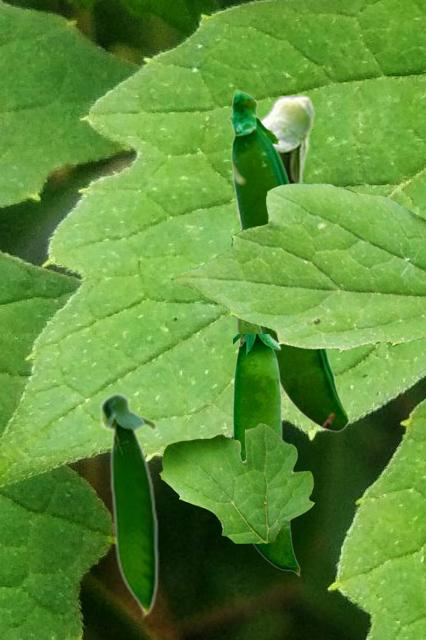pea: (228, 88, 348, 431), (234, 94, 315, 352), (233, 334, 299, 575), (98, 391, 158, 619)
